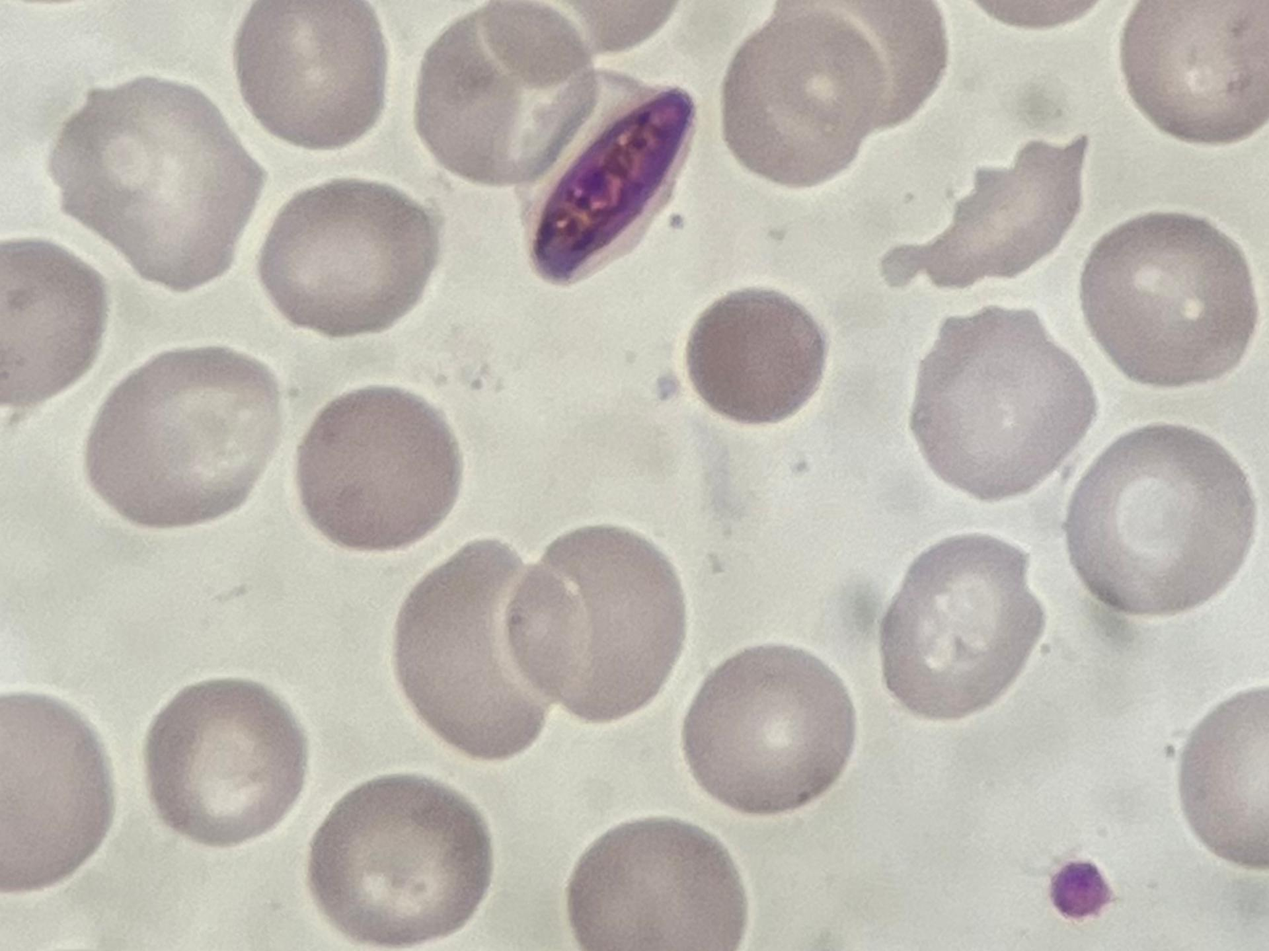Infected: (516, 71, 695, 284)
Uninfected: (45, 76, 260, 291), (390, 536, 579, 759), (1067, 423, 1256, 617), (910, 306, 1098, 501), (83, 346, 279, 530), (507, 524, 683, 724), (306, 774, 493, 945), (416, 9, 597, 185), (879, 532, 1043, 726), (256, 175, 444, 339), (1082, 213, 1257, 385), (720, 7, 879, 188), (686, 645, 857, 813), (145, 678, 309, 847), (297, 385, 459, 551), (0, 688, 119, 895), (565, 817, 748, 951), (235, 4, 387, 151), (1117, 0, 1269, 146), (684, 286, 826, 423), (0, 240, 106, 405)
